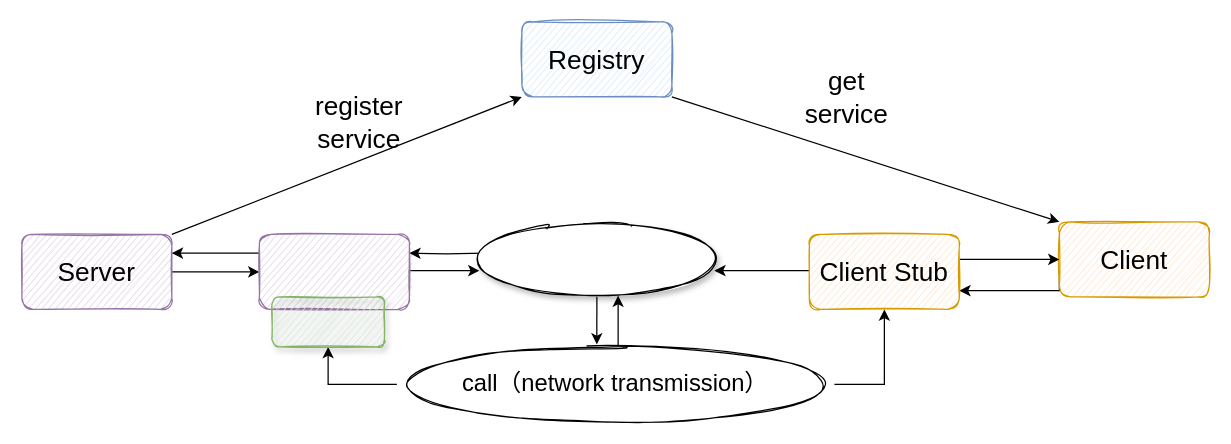
The diagram is 1231 pixels wide and 444 high, and some of its shapes have lost their labels. Each missing label, with the centre of its shape:
"Load balance" goes at (329,323).
"Serialization/ deserialization" goes at (597,261).
"Server Stub" goes at (333,271).
